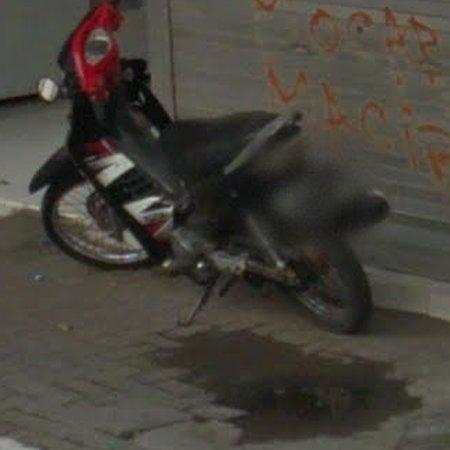motorcycles: (29, 1, 390, 333)
